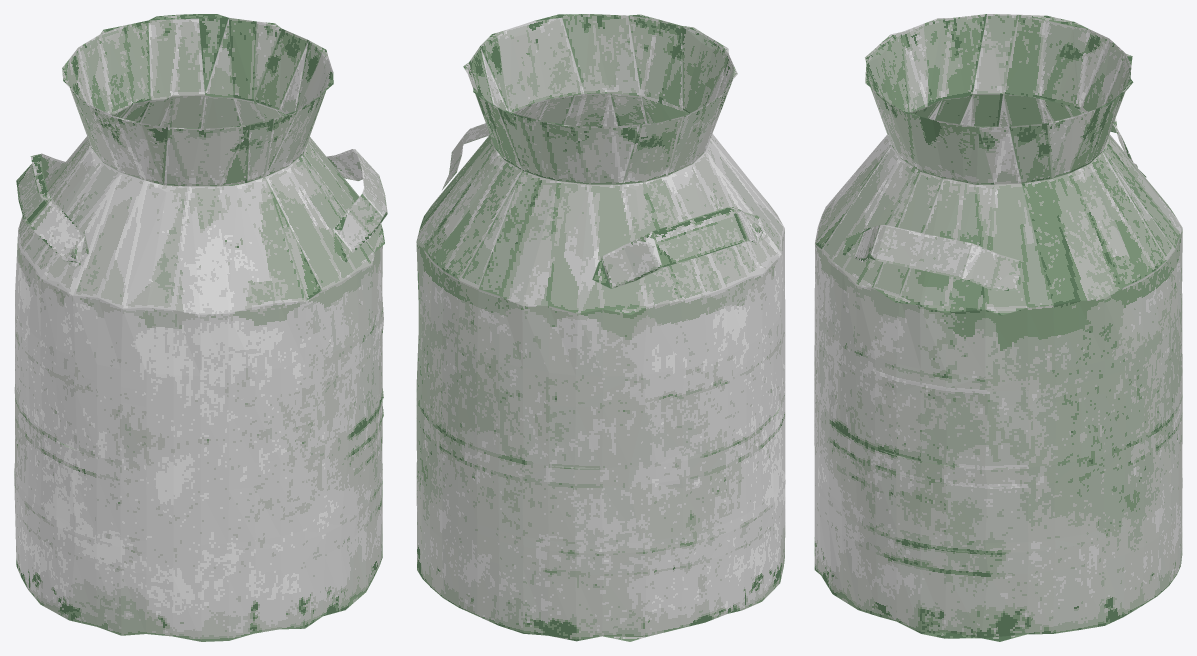
The model's file is milk.glb.
The picture shows the model from 3 angles, left to right: view 1: azimuth 30°, elevation 25°; view 2: azimuth 150°, elevation 25°; view 3: azimuth 270°, elevation 25°; orthographic projection.
Parts seen in each view (by area): view 1: model_m; view 2: model_m; view 3: model_m.
Boxes of the visible parts, bbox=[...] form: model_m: bbox=[14, 14, 387, 641]; model_m: bbox=[416, 14, 785, 641]; model_m: bbox=[814, 14, 1182, 641].
Bounding box in the file's own units: 27.4 × 40 × 27.08.
1 material, 1 textured.
